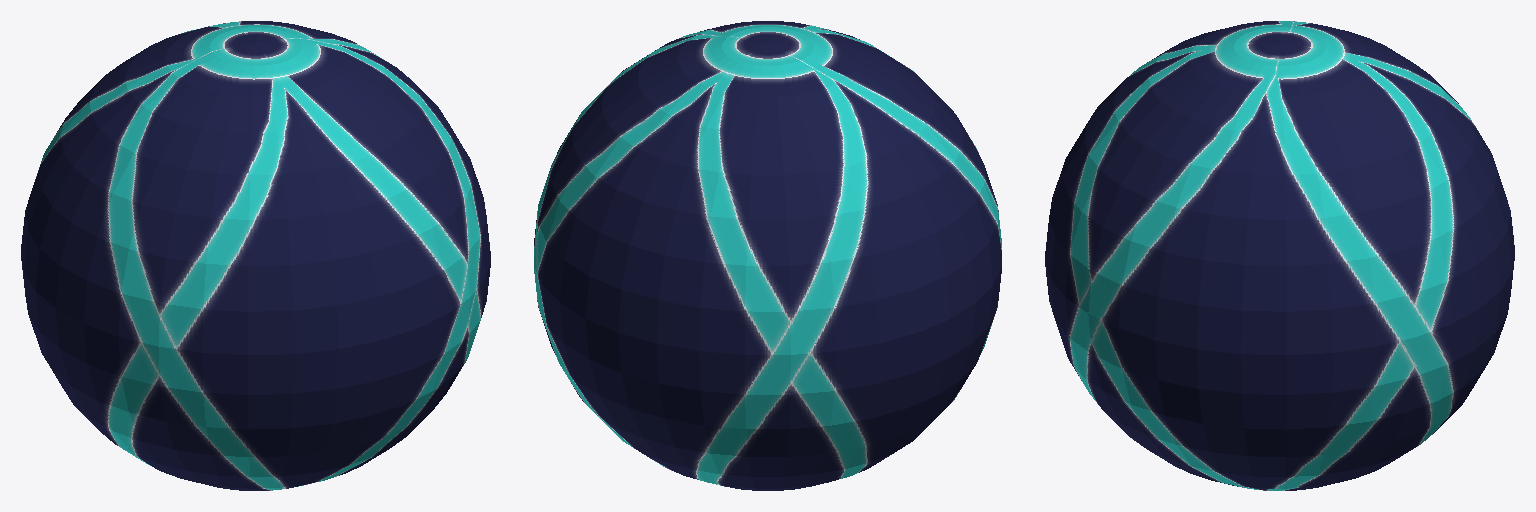
3 views of the same model, side by side, from view 1: azimuth 30°, elevation 25°; view 2: azimuth 150°, elevation 25°; view 3: azimuth 270°, elevation 25° (orthographic).
Parts seen in each view (by area): view 1: 球; view 2: 球; view 3: 球.
Part boxes in pixels (x1,y1,x2,y2): 球: (21, 21, 490, 490); 球: (534, 21, 1001, 490); 球: (1045, 21, 1514, 490).
Bounding box in the file's own units: 13.75 × 13.75 × 13.75.
1 materials, 1 textured.